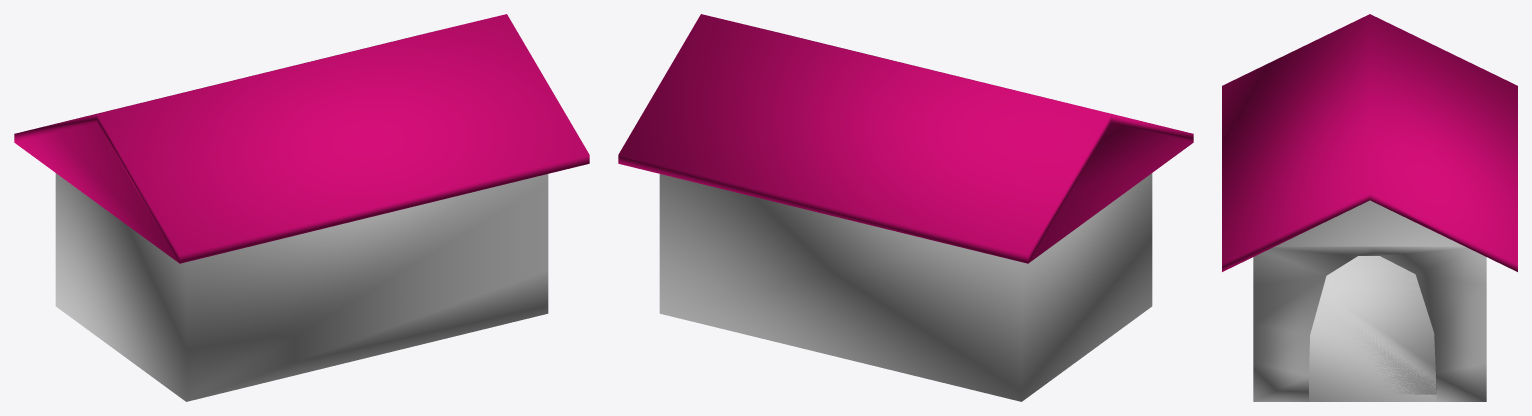
Rendered from doghouse.fbx.
3 renders of one model, left to right at view 1: azimuth 30°, elevation 25°; view 2: azimuth 150°, elevation 25°; view 3: azimuth 270°, elevation 25°, orthographic. The views are drawn at different scales.
Parts seen in each view (by area): view 1: 平面; view 2: 平面; view 3: 平面.
Boxes of the visible parts, left/top/right/bottom form: 平面: left=14, top=14, right=589, bottom=401; 平面: left=618, top=14, right=1193, bottom=401; 平面: left=1222, top=14, right=1517, bottom=401.
Bounding box in the file's own units: 4 × 2.29 × 2.8.
